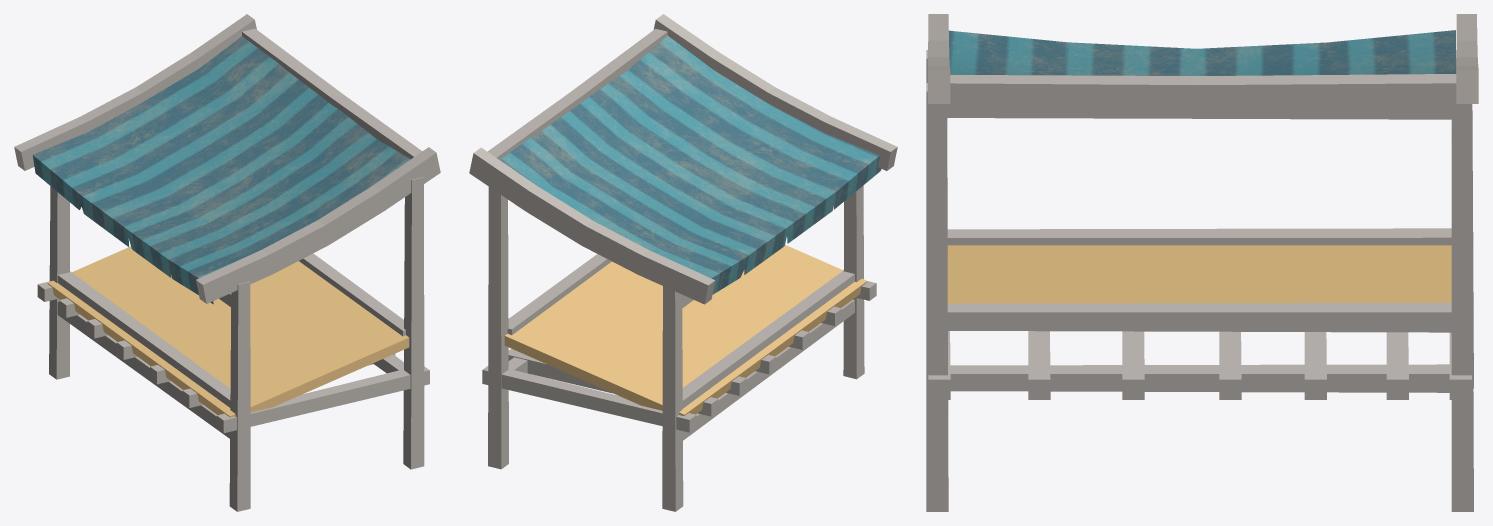
File: Store_A.fbx
3 renders of one model, left to right at view 1: azimuth 30°, elevation 25°; view 2: azimuth 150°, elevation 25°; view 3: azimuth 270°, elevation 25°, orthographic. The views are drawn at different scales.
Visible parts, largest first — view 1: Store_A; view 2: Store_A; view 3: Store_A.
Part boxes in pixels (x1,y1,x2,y2): Store_A: (14, 14, 440, 511); Store_A: (469, 14, 897, 511); Store_A: (926, 14, 1478, 511).
Bounding box in the file's own units: 379 × 473 × 525.
